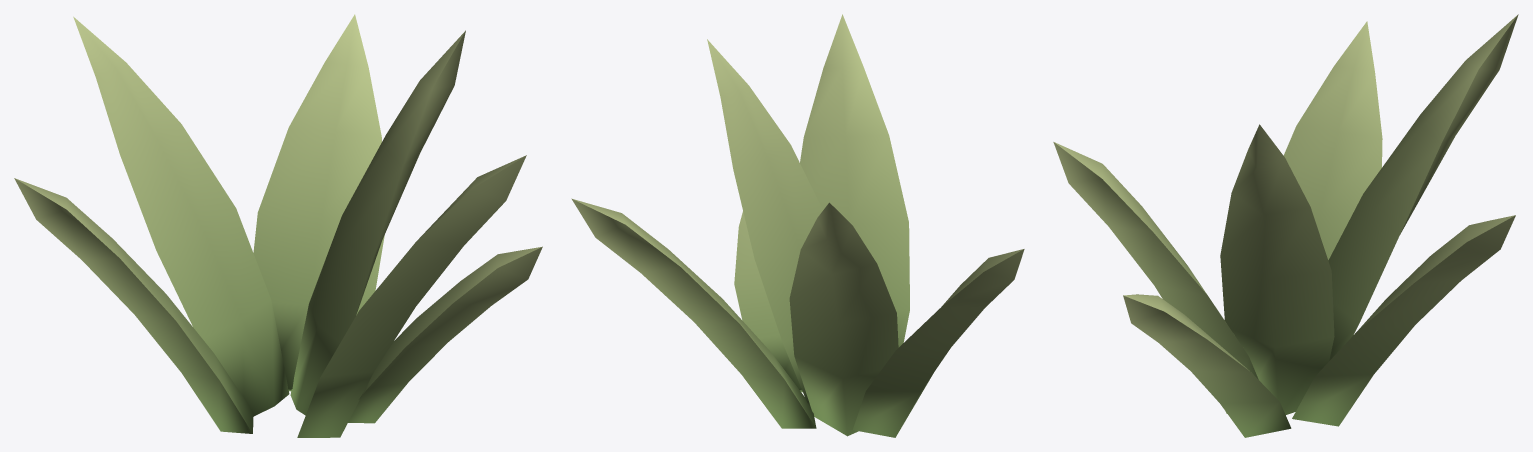
File: grass_small_c.glb
3 renders of one model, left to right at view 1: azimuth 30°, elevation 25°; view 2: azimuth 150°, elevation 25°; view 3: azimuth 270°, elevation 25°, orthographic. The views are drawn at different scales.
Parts seen in each view (by area): view 1: Grass_Small_C.001; view 2: Grass_Small_C.001; view 3: Grass_Small_C.001.
Boxes of the visible parts, bbox=[...] form: Grass_Small_C.001: bbox=[14, 14, 542, 437]; Grass_Small_C.001: bbox=[571, 14, 1024, 437]; Grass_Small_C.001: bbox=[1053, 14, 1518, 437].
Size of the model in its own units: 0.2829 by 0.2364 by 0.2758.
